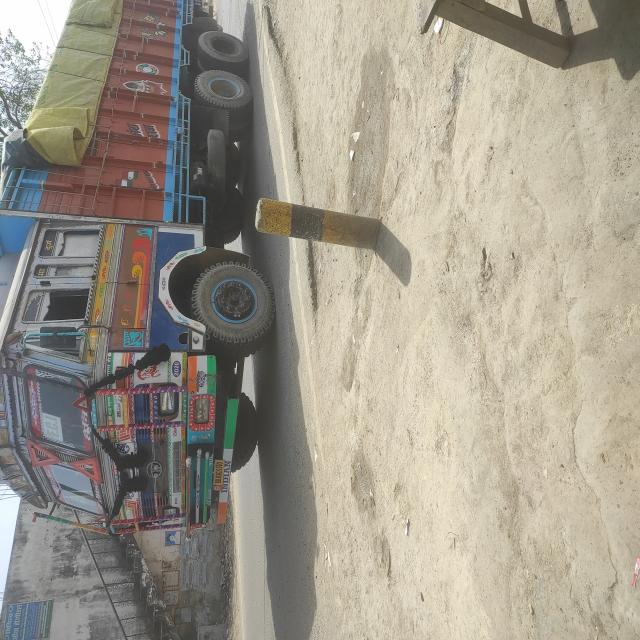Truck: (84, 7, 480, 333)
